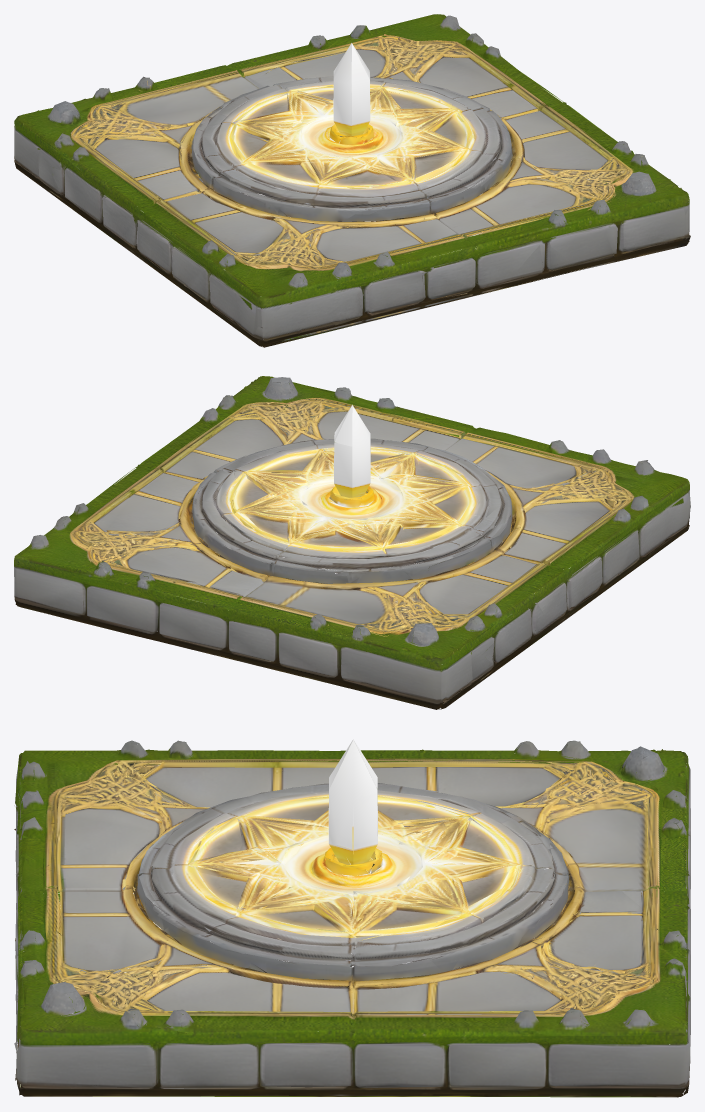
Rendered from End.glb.
The picture shows the model from 3 angles, top to bottom: view 1: azimuth 30°, elevation 25°; view 2: azimuth 150°, elevation 25°; view 3: azimuth 270°, elevation 25°; orthographic projection. The views are drawn at different scales.
Visible parts, largest first — view 1: White_Portal_Optimized_9500; view 2: White_Portal_Optimized_9500; view 3: White_Portal_Optimized_9500.
Boxes of the visible parts, x1,y1,x2,y2 form: White_Portal_Optimized_9500: [14, 14, 690, 347]; White_Portal_Optimized_9500: [14, 376, 690, 709]; White_Portal_Optimized_9500: [14, 739, 690, 1097].
Size of the model in its own units: 0.8358 by 0.3026 by 0.8416.
1 material, 1 textured.
